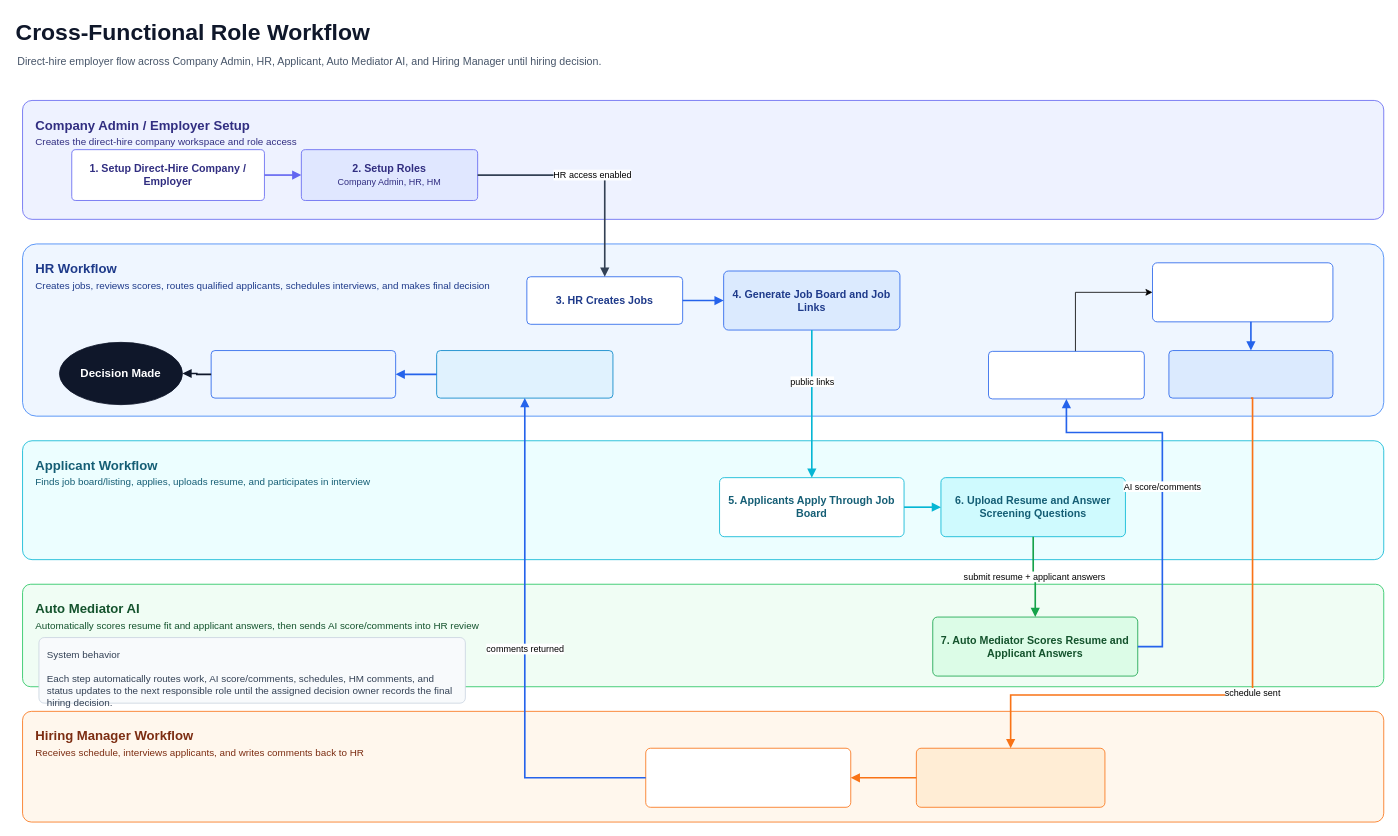
Some shapes in this 1398 by 836 pixel diagram are drawn without their labels. Here are the shapes that lost their labels. From the top down, the box of each, then its label:
(1152, 262, 1333, 322): 9. Send Qualified Applicants Forward
(210, 350, 396, 398): 14. Decision Owner Makes Hiring Decision
(436, 350, 613, 398): 13. HR Reviews HM Comments
(988, 351, 1144, 399): 8. HR Reviews Scores
(1168, 350, 1333, 398): 10. Schedule Interviews
(645, 747, 851, 807): 12. HM Interviews Applicants and Writes Comments
(916, 747, 1105, 807): 11. HM Receives Interview Schedule
